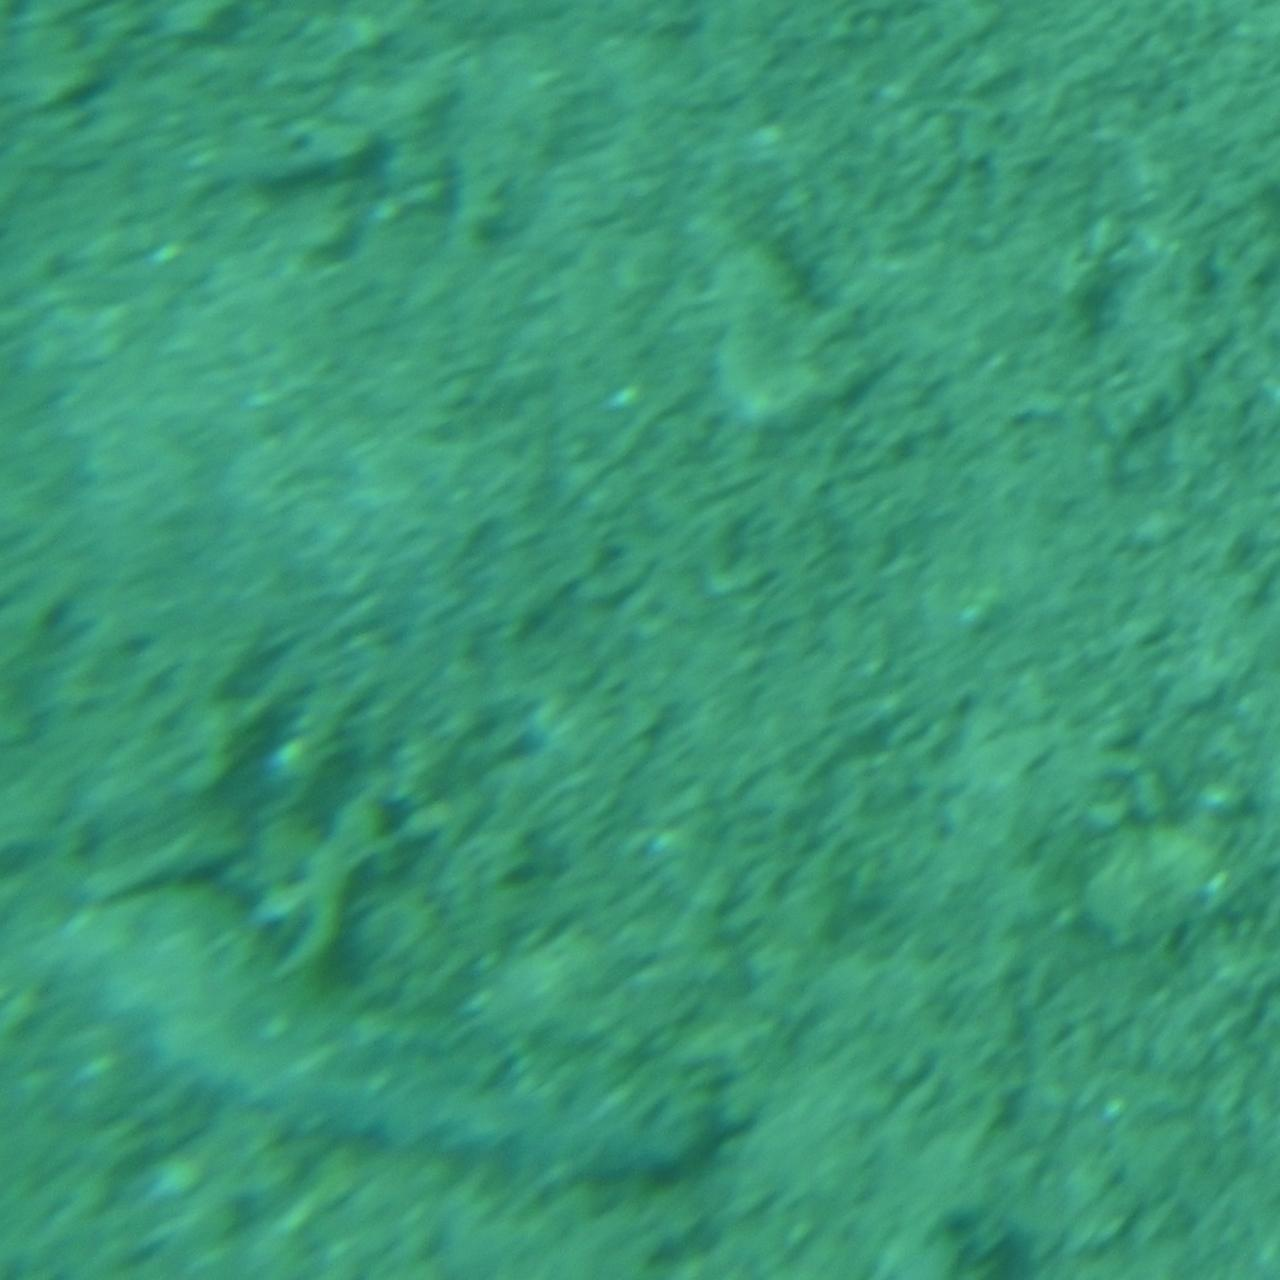Holothuria tubulosa: (49, 881, 743, 1175)
